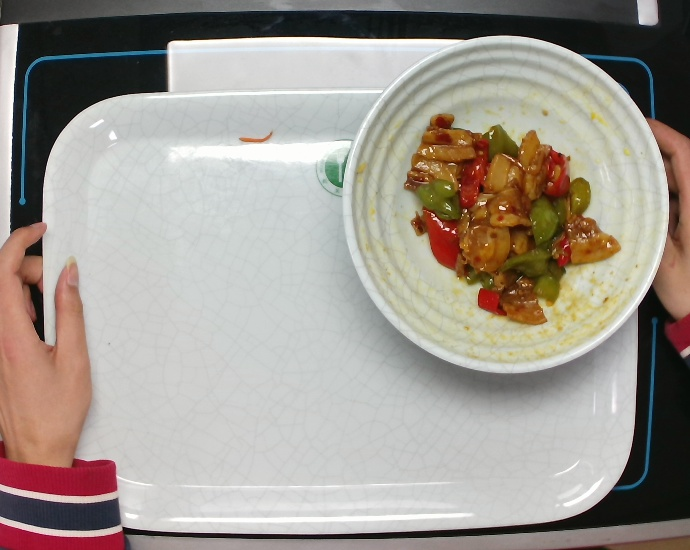JYsf-Da_Tang_Wan: (327, 32, 673, 383)
